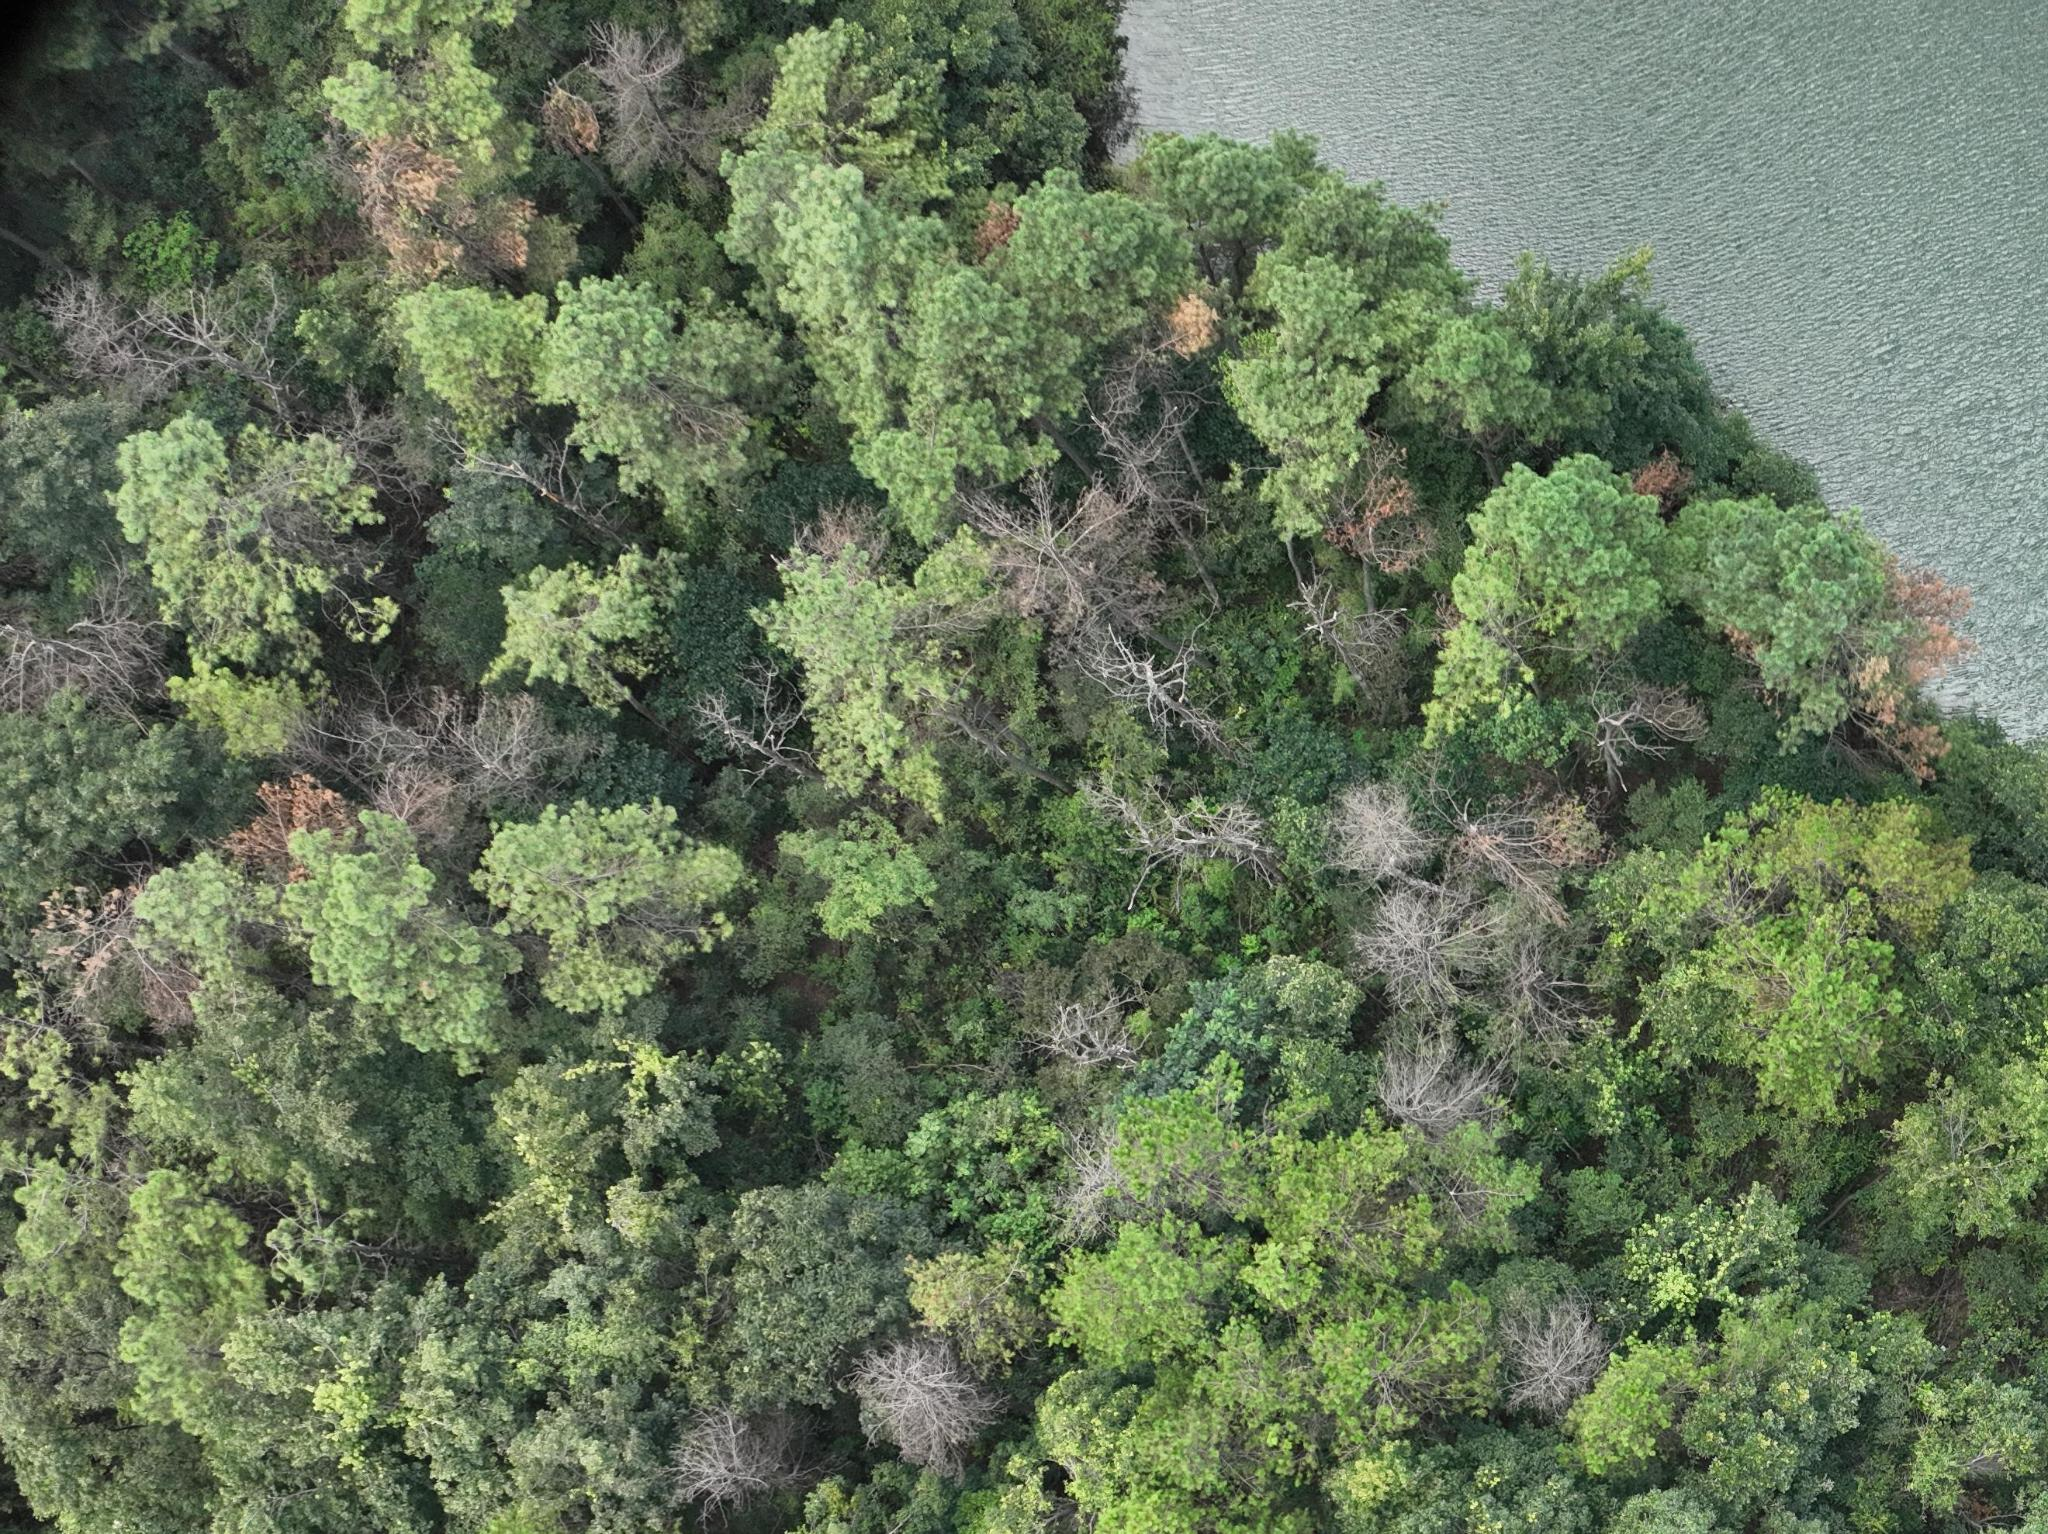dead: (561, 19, 741, 201), (968, 469, 1149, 649), (366, 677, 540, 825), (37, 888, 192, 1043), (63, 284, 264, 395), (848, 1339, 1004, 1471), (1358, 886, 1490, 1004), (1373, 1028, 1495, 1131), (667, 1402, 780, 1511), (1505, 1302, 1618, 1412), (1331, 777, 1429, 877), (1460, 798, 1586, 875)
heavy: (1858, 556, 1972, 775), (354, 137, 529, 280), (1333, 433, 1432, 583), (219, 773, 346, 878), (1626, 445, 1694, 506), (1165, 292, 1221, 358), (970, 195, 1017, 256)
